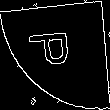P_E: (29, 34, 81, 76)
